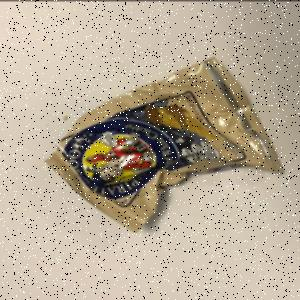Trash: (42, 56, 286, 236)
